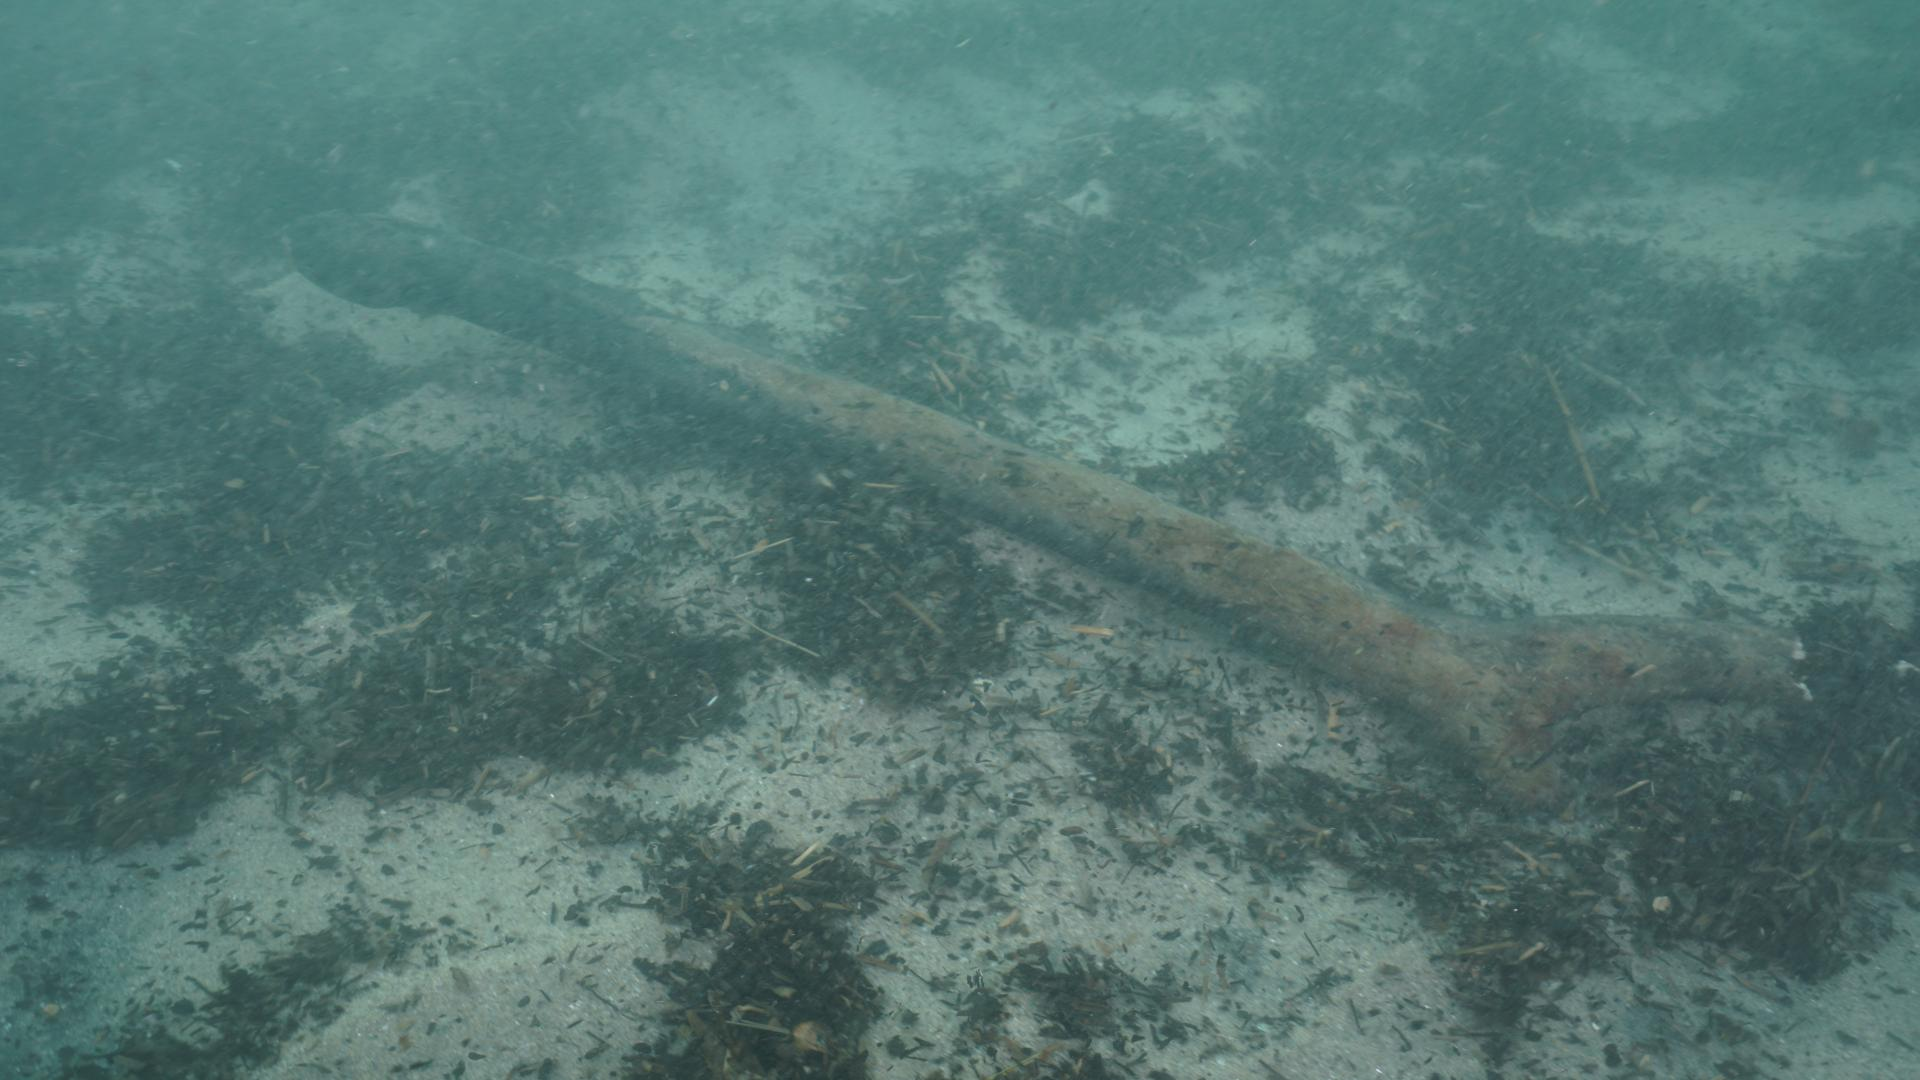wood: (287, 206, 1811, 819)
